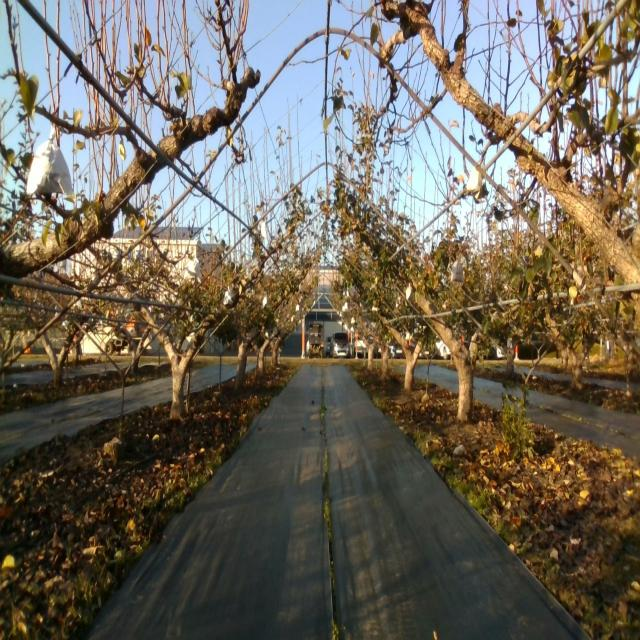pearbags: (25, 128, 72, 196), (466, 165, 482, 203), (182, 254, 201, 282), (450, 260, 464, 284), (223, 284, 233, 306)
